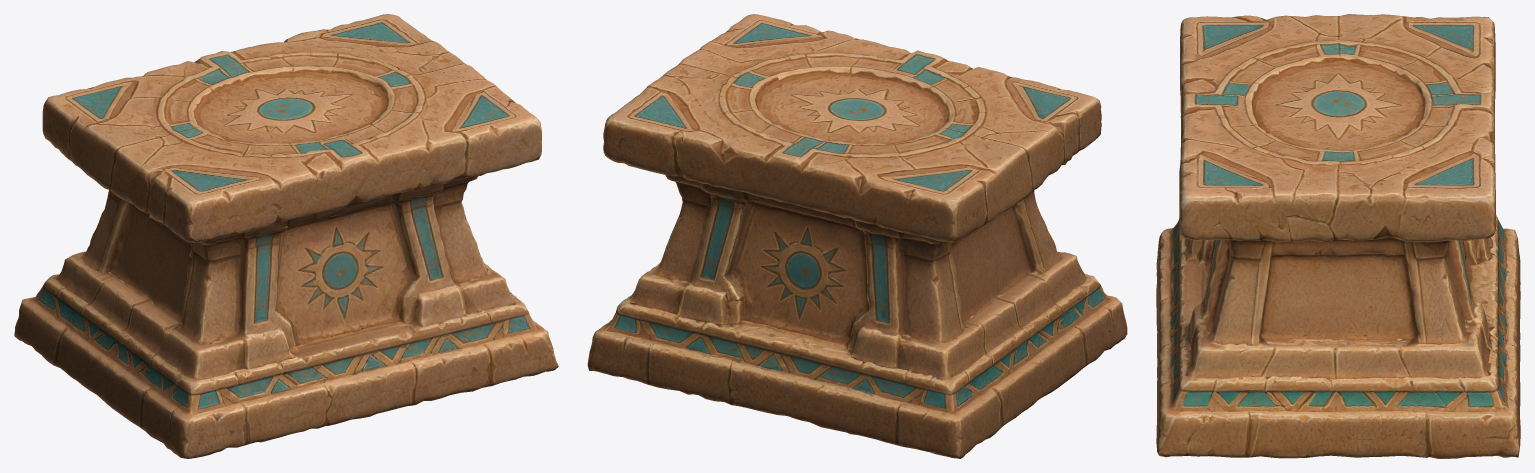
File: DESERT_P07_ALTAR.glb
The picture shows the model from 3 angles, left to right: view 1: azimuth 30°, elevation 25°; view 2: azimuth 150°, elevation 25°; view 3: azimuth 270°, elevation 25°; orthographic projection. The views are drawn at different scales.
Parts seen in each view (by area): view 1: texture_mapping; view 2: texture_mapping; view 3: texture_mapping.
Boxes of the visible parts, x1,y1,x2,y2 form: texture_mapping: [14, 14, 558, 458]; texture_mapping: [587, 14, 1127, 458]; texture_mapping: [1156, 14, 1520, 458].
Bounding box in the file's own units: 0.9983 × 0.6371 × 0.7934.
1 material, 1 textured.
